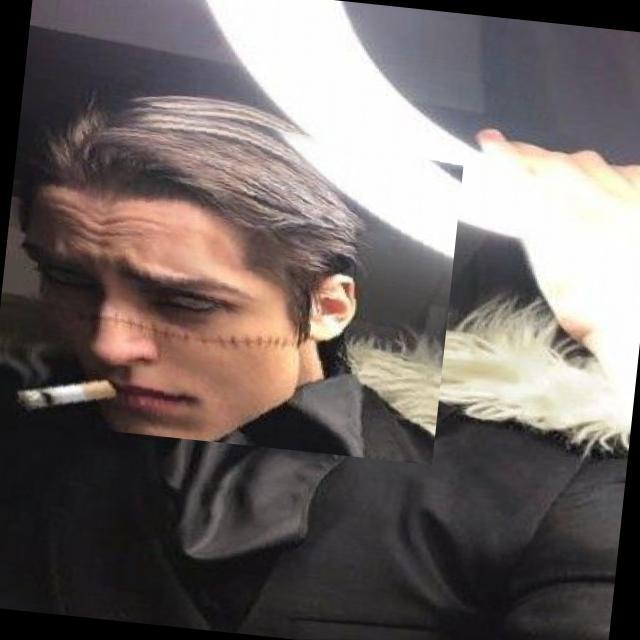cigarette: (0, 346, 154, 427)
